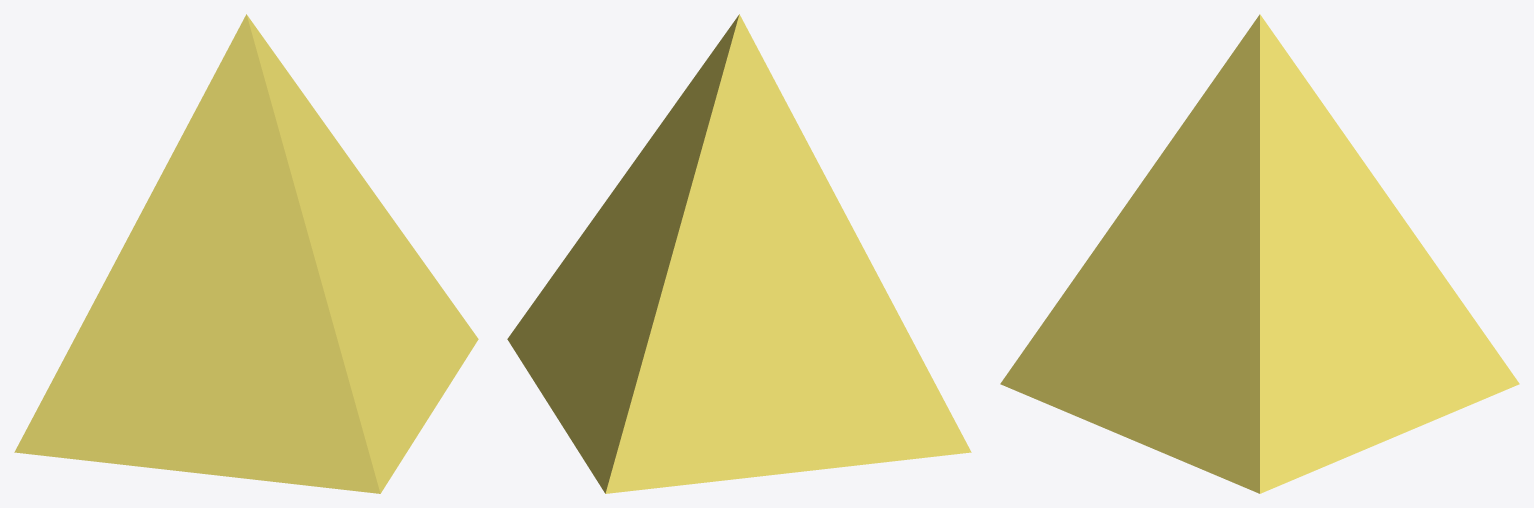
3 views of the same model, side by side, from view 1: azimuth 30°, elevation 25°; view 2: azimuth 150°, elevation 25°; view 3: azimuth 270°, elevation 25° (orthographic). The views are drawn at different scales.
Size of the model in its own units: 28 by 22 by 28.
